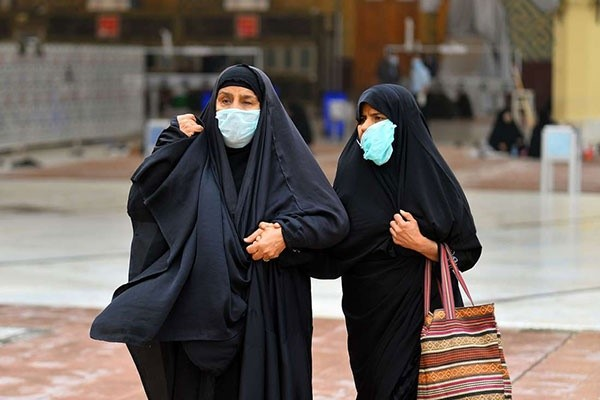face_with_mask: (207, 64, 276, 152), (355, 88, 411, 146)
